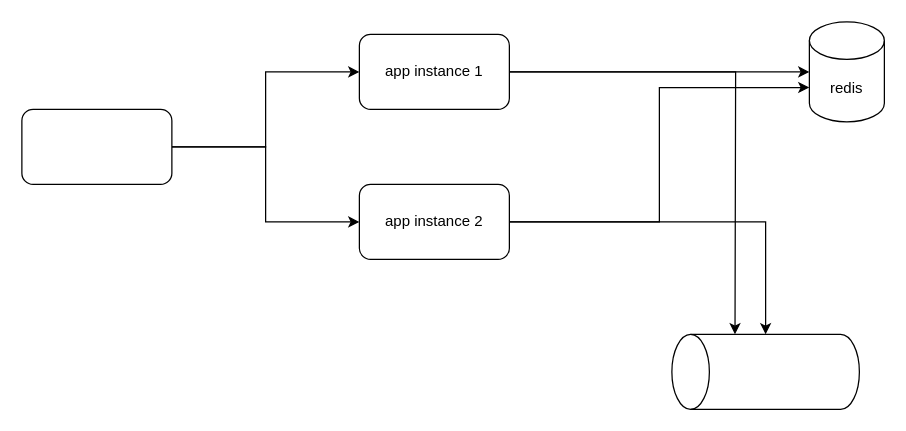
Some shapes in this 906 by 431 pixel diagram are drawn without their labels. Each missing label, with the centre of its shape:
"kafka" belongs at [765,371].
"load balancer" belongs at [96,146].
